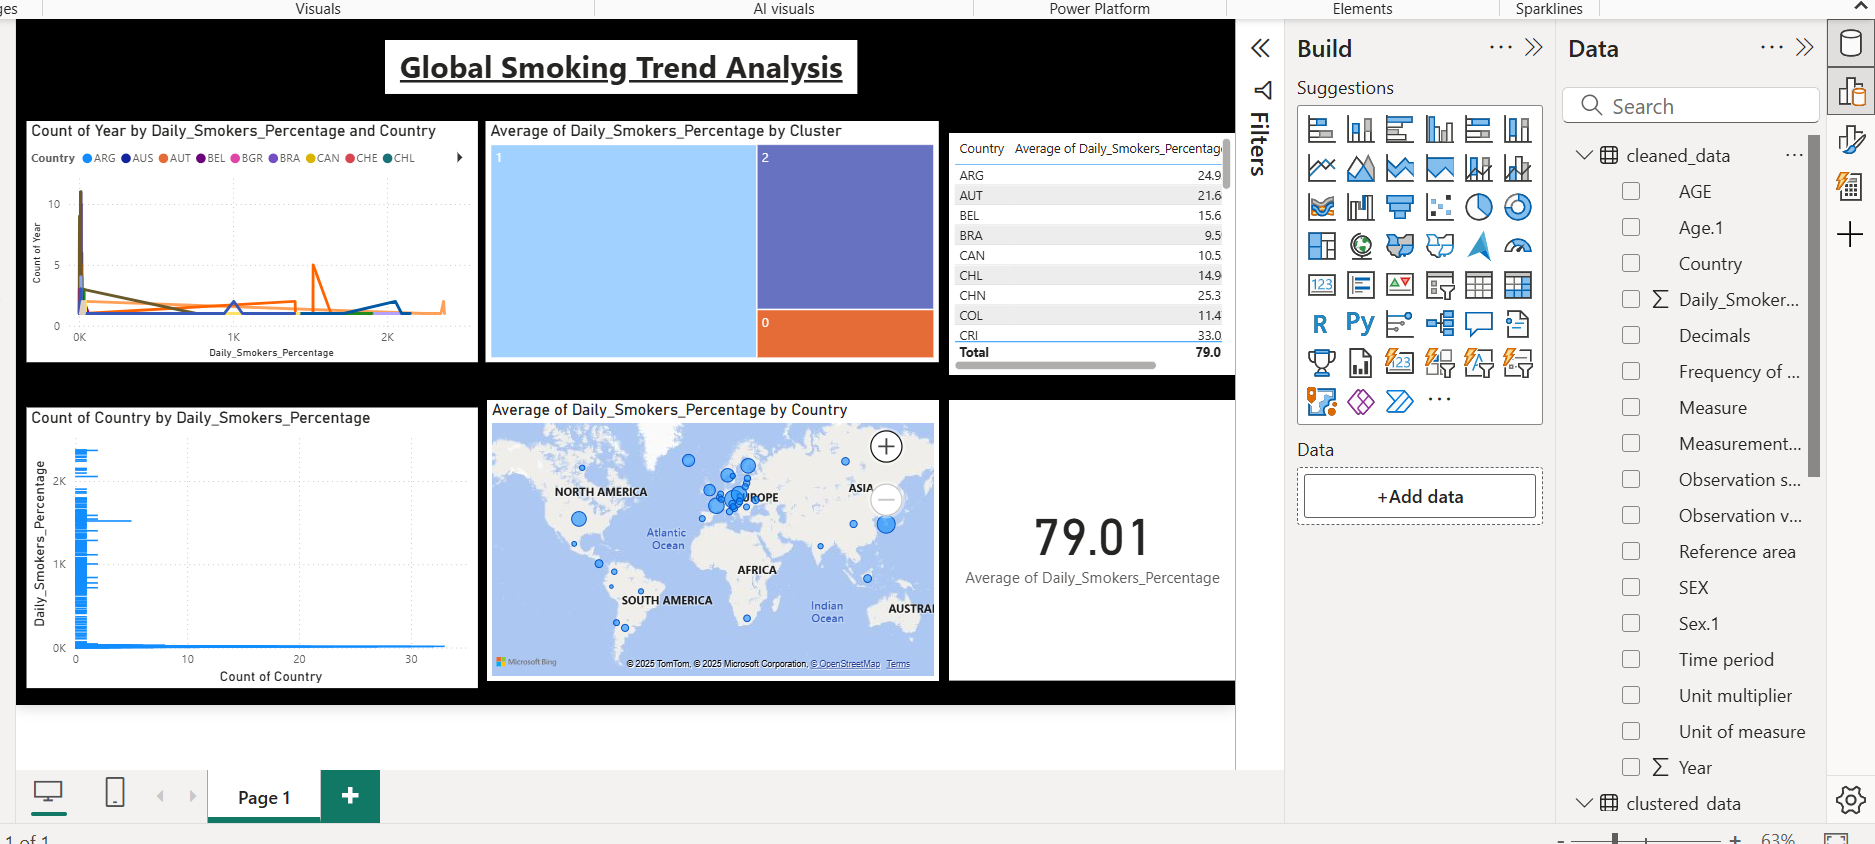

What the dashboard file says about the page in this screenshot:
{"tool":"powerbi","page":{"name":"Page 1","canvas":[1280,720],"ordinal":0},"visuals":[{"type":"lineChart","fields":{"Category":["cleaned_data.Daily_Smokers_Percentage"],"Y":["CountNonNull(cleaned_data.Year)"],"Series":["cleaned_data.Country"]},"box":[11,107.1,474.1,253.6],"z":0},{"type":"barChart","fields":{"Category":["cleaned_data.Daily_Smokers_Percentage"],"Y":["CountNonNull(cleaned_data.Country)"]},"box":[11,407.9,474.1,294.5],"z":1000},{"type":"treemap","fields":{"Group":["clustered_data.Cluster"],"Values":["Avg(clustered_data.Daily_Smokers_Percentage)"]},"box":[493,107.1,475.7,253.6],"z":2000},{"type":"map","fields":{"Category":["clustered_data.Country"],"Size":["Avg(clustered_data.Daily_Smokers_Percentage)"]},"box":[494.6,400.1,474.1,294.5],"z":3000},{"type":"tableEx","fields":{"Values":["clustered_data.Country","Avg(clustered_data.Daily_Smokers_Percentage)","Max(clustered_data.Year)"]},"box":[979.7,119.7,300.8,253.6],"z":4000},{"type":"card","fields":{"Values":["Avg(clustered_data.Daily_Smokers_Percentage)"]},"box":[979.2,400.1,300.8,294.5],"z":5000},{"type":"textbox","box":[387.5,22.1,496.2,56.7],"z":5001}]}

Visuals, with their boxes on the page's 1280x720 design canvas (x1, y1, x2, y2). These are canvas units, not pixel positions in the 1875x844 screenshot, which may show the page scaled, cropped or inside an application window:
lineChart - cleaned_data.Daily_Smokers_Percentage x CountNonNull(cleaned_data.Year): (left=11, top=107, right=485, bottom=361)
barChart - cleaned_data.Daily_Smokers_Percentage x CountNonNull(cleaned_data.Country): (left=11, top=408, right=485, bottom=702)
treemap - clustered_data.Cluster x Avg(clustered_data.Daily_Smokers_Percentage): (left=493, top=107, right=969, bottom=361)
map - clustered_data.Country x Avg(clustered_data.Daily_Smokers_Percentage): (left=495, top=400, right=969, bottom=695)
tableEx - clustered_data.Country x Avg(clustered_data.Daily_Smokers_Percentage): (left=980, top=120, right=1280, bottom=373)
card - Avg(clustered_data.Daily_Smokers_Percentage): (left=979, top=400, right=1280, bottom=695)
textbox: (left=388, top=22, right=884, bottom=79)
